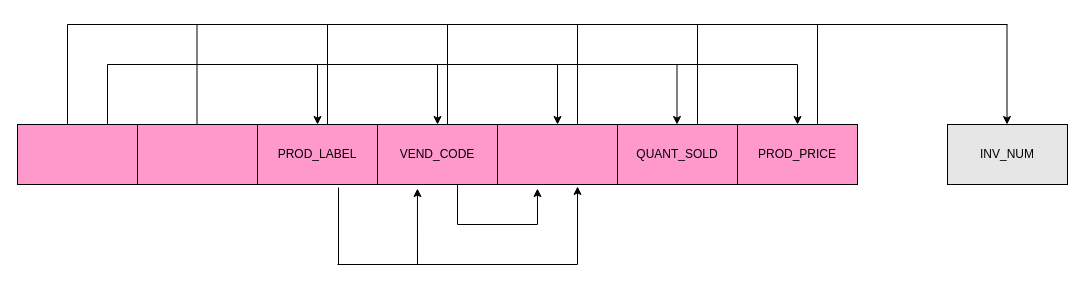
The diagram is 1085 pixels wide and 290 high, and some of its shapes have lost their labels. Each missing label, with the centre of its shape:
"PROD_NUM" goes at point (77, 154).
"SALE_DATE" goes at point (197, 154).
"VEND_NAME" goes at point (557, 154).
